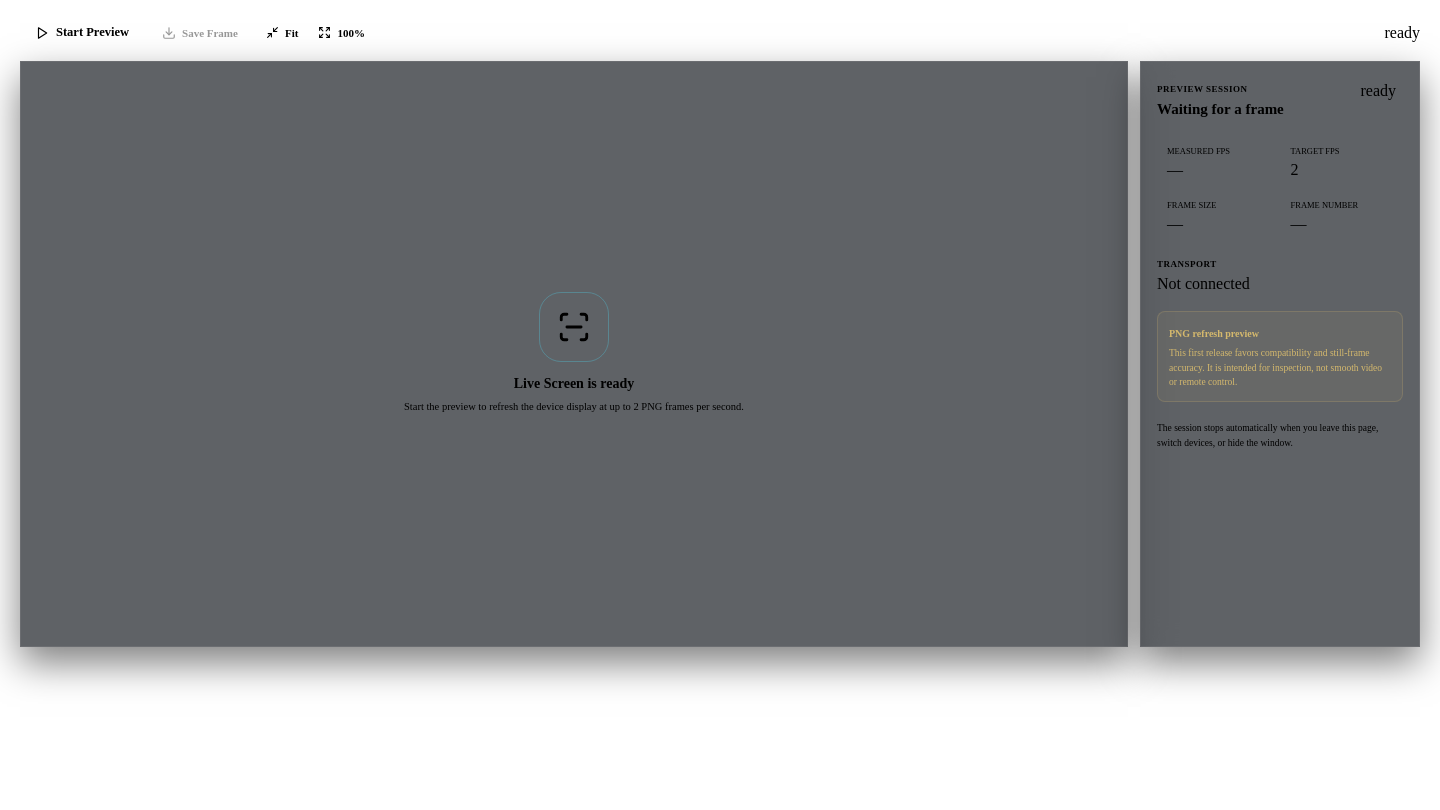
Scenario: Live Screen workflow › pauses the owned session when the window becomes hidden
Step 1. Click the button "Start Preview" → [82, 32], box [20,16,144,49]
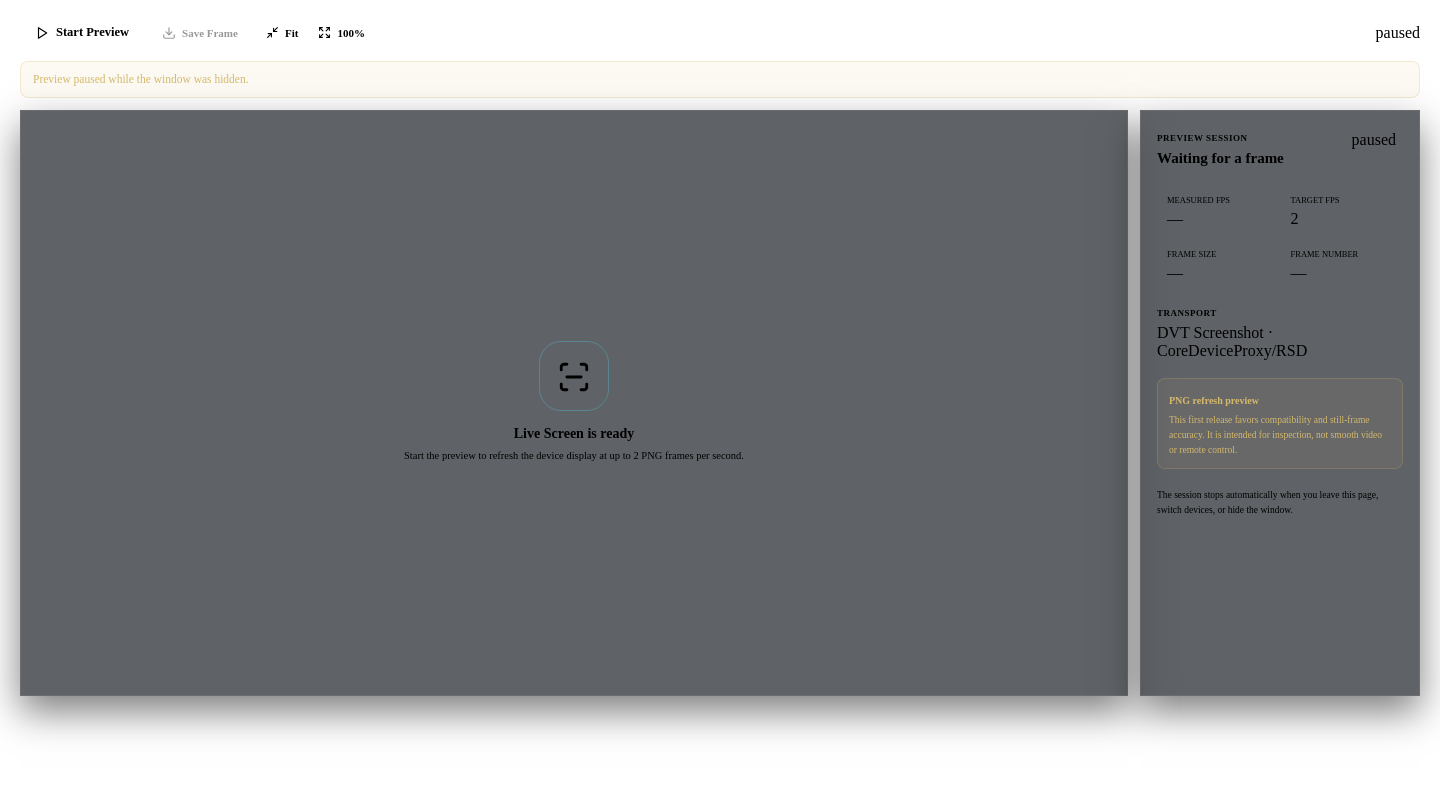
Now the text "Preview paused while the window was hidden." is shown, box [20,61,1420,98]
